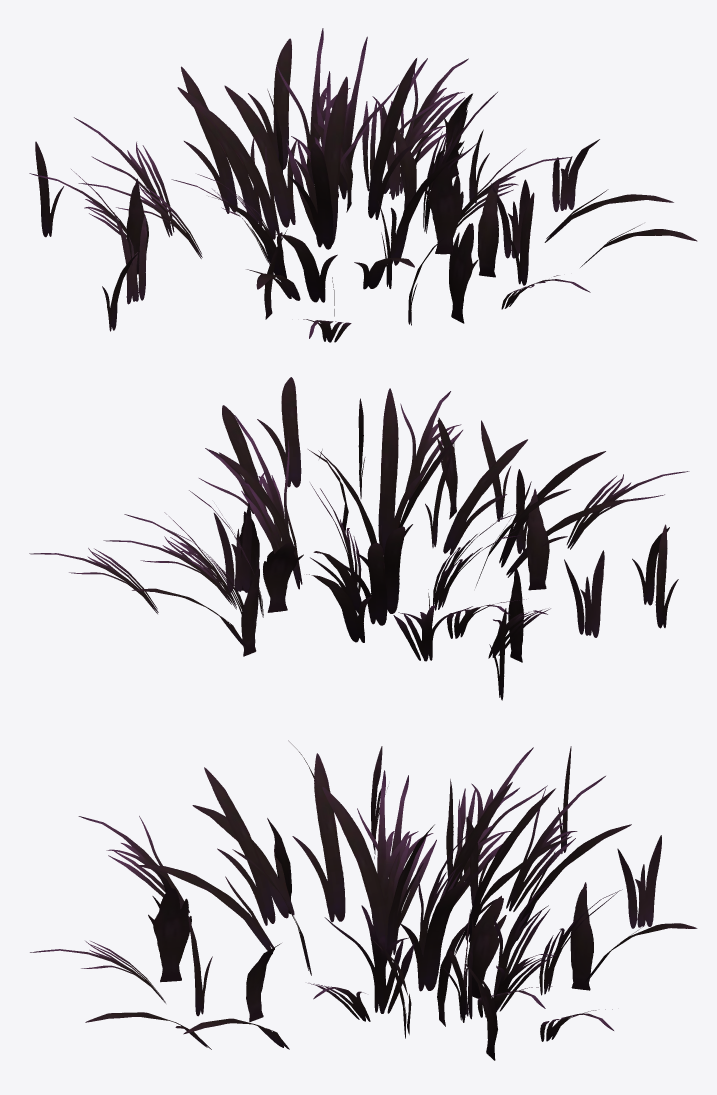
3 views of the same model, one above another, from view 1: azimuth 30°, elevation 25°; view 2: azimuth 150°, elevation 25°; view 3: azimuth 270°, elevation 25° (orthographic). The views are drawn at different scales.
Visible parts, largest first — view 1: SM_WT_Sedge_02_LOD0; view 2: SM_WT_Sedge_02_LOD0; view 3: SM_WT_Sedge_02_LOD0.
Boxes of the visible parts, <box> form: SM_WT_Sedge_02_LOD0: <box>29,28,697,342</box>; SM_WT_Sedge_02_LOD0: <box>29,377,689,700</box>; SM_WT_Sedge_02_LOD0: <box>30,740,697,1060</box>.
Bounding box in the file's own units: 0.8142 × 0.2419 × 0.8657.
1 material, 1 textured.
